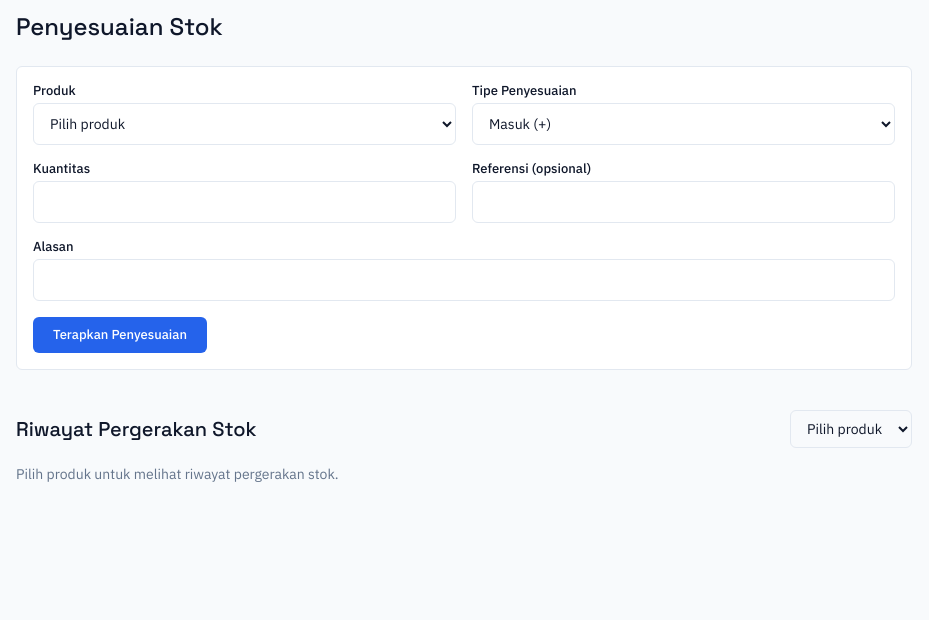
Test: AdminInventory page › submits a stock adjustment and then shows the product's movement history
Select "Kopi Susu (stok saat ini: 10)" in the dropdown labelled "Produk" at (244, 124), box [33, 103, 456, 145]
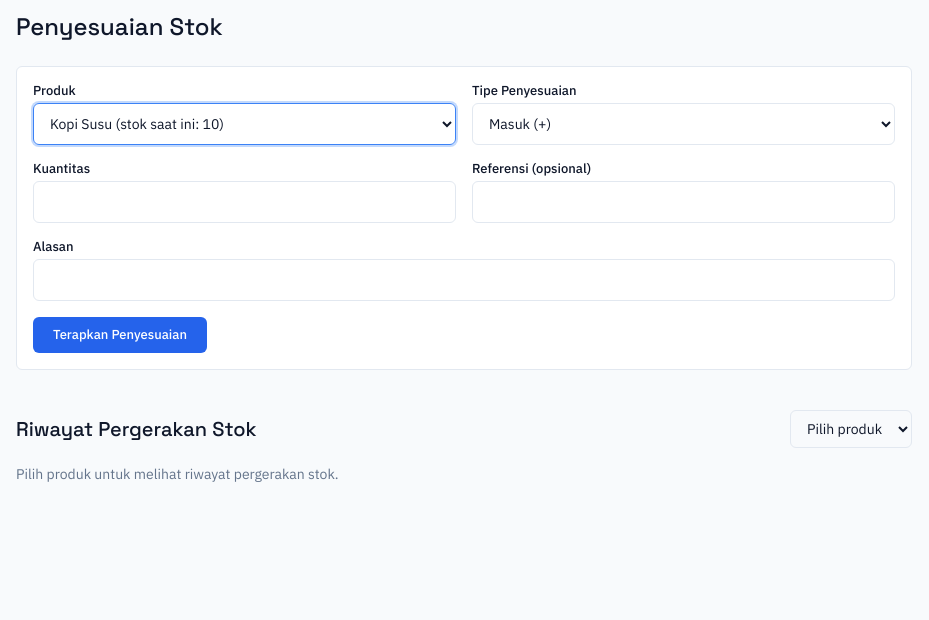
Type "10" into the number field labelled "Kuantitas" at (244, 202), box [33, 181, 456, 223]
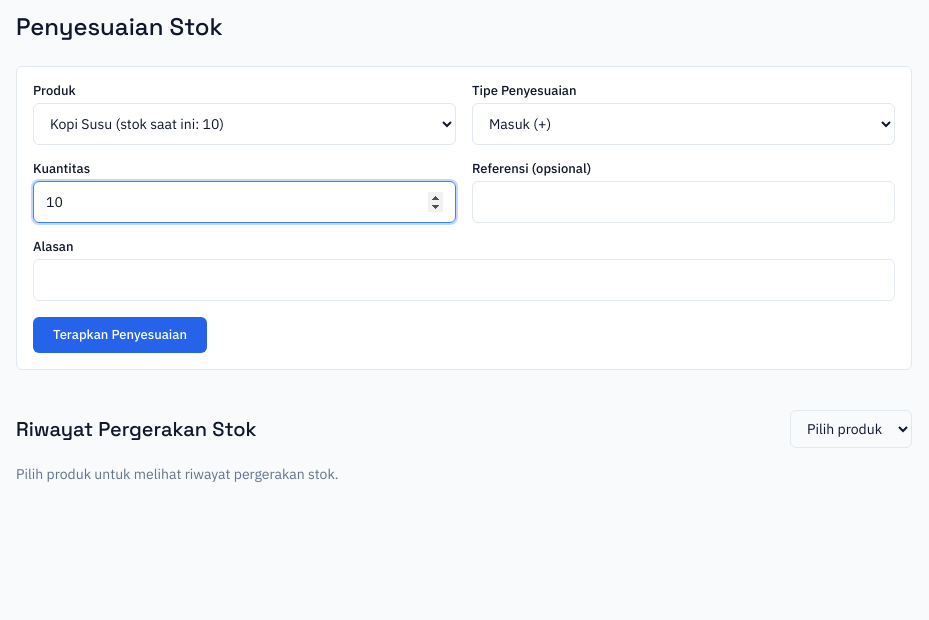
Type "Restock mingguan" into the field labelled "Alasan" at (464, 280), box [33, 259, 895, 301]
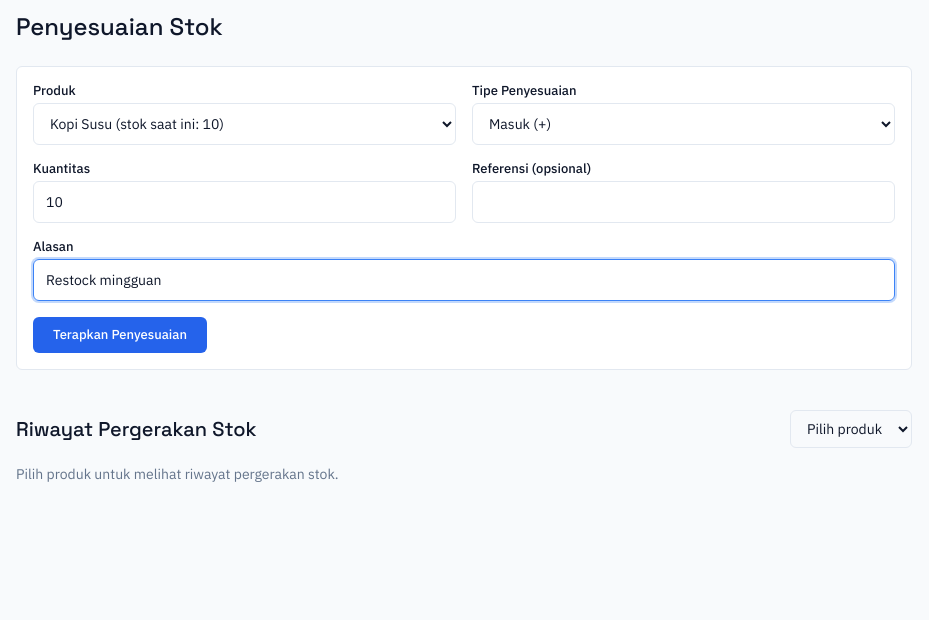
Click the button "Terapkan Penyesuaian" at (120, 335), box [33, 317, 207, 353]
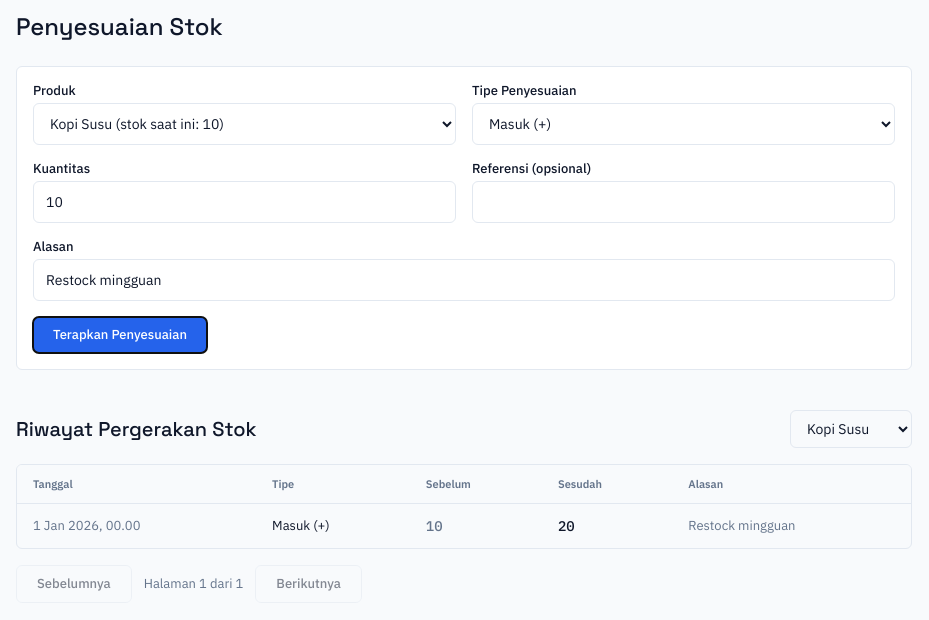
Result: the text "Restock mingguan" is shown at [672, 504, 911, 548]
